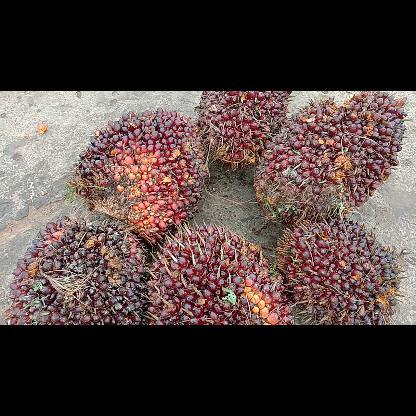Kurang masak: (252, 90, 408, 224), (64, 106, 209, 248), (0, 215, 151, 325), (145, 220, 299, 324), (272, 216, 404, 324), (196, 91, 292, 167)
